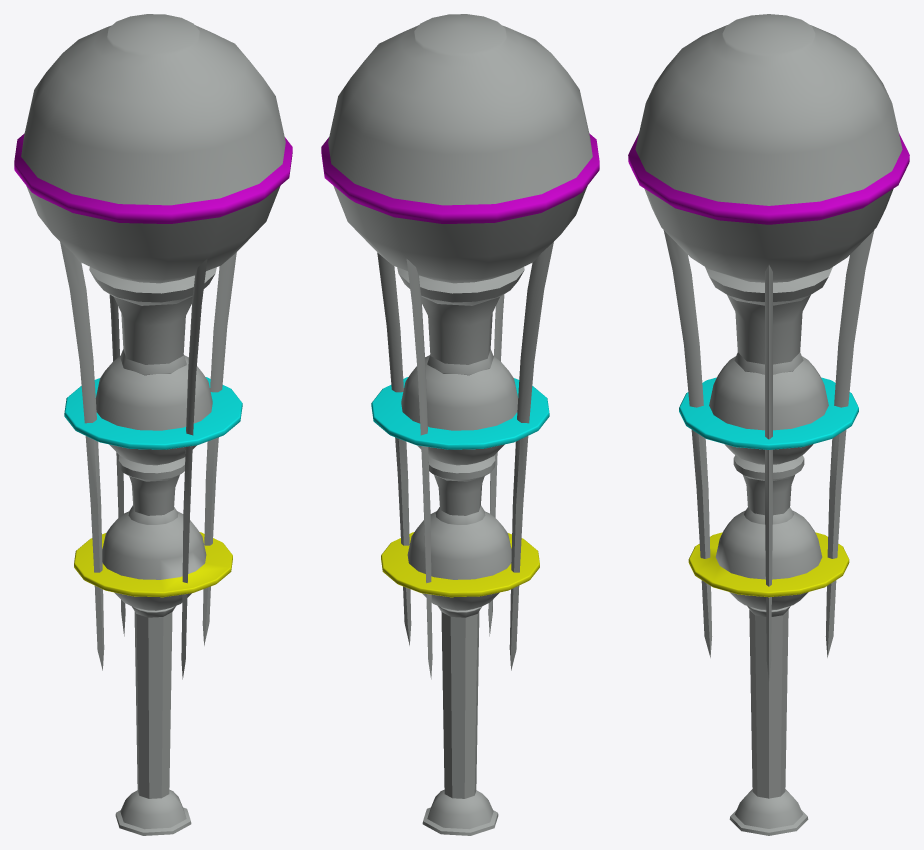
The picture shows the model from 3 angles, left to right: view 1: azimuth 30°, elevation 25°; view 2: azimuth 150°, elevation 25°; view 3: azimuth 270°, elevation 25°; orthographic projection.
Visible parts, largest first — view 1: G:\FFXIV-MapTools\exports\u5f1\bg\ex4\04_uvs_u5\fld\u5f1\bgp (×3); view 2: G:\FFXIV-MapTools\exports\u5f1\bg\ex4\04_uvs_u5\fld\u5f1\bgp (×3); view 3: G:\FFXIV-MapTools\exports\u5f1\bg\ex4\04_uvs_u5\fld\u5f1\bgp (×3).
Part boxes in pixels (x1,y1,x2,y2): G:\FFXIV-MapTools\exports\u5f1\bg\ex4\04_uvs_u5\fld\u5f1\bgp (×3): (14, 14, 292, 835); G:\FFXIV-MapTools\exports\u5f1\bg\ex4\04_uvs_u5\fld\u5f1\bgp (×3): (321, 14, 599, 835); G:\FFXIV-MapTools\exports\u5f1\bg\ex4\04_uvs_u5\fld\u5f1\bgp (×3): (628, 14, 909, 835).
Size of the model in its own units: 3.3 by 10.28 by 3.3.
